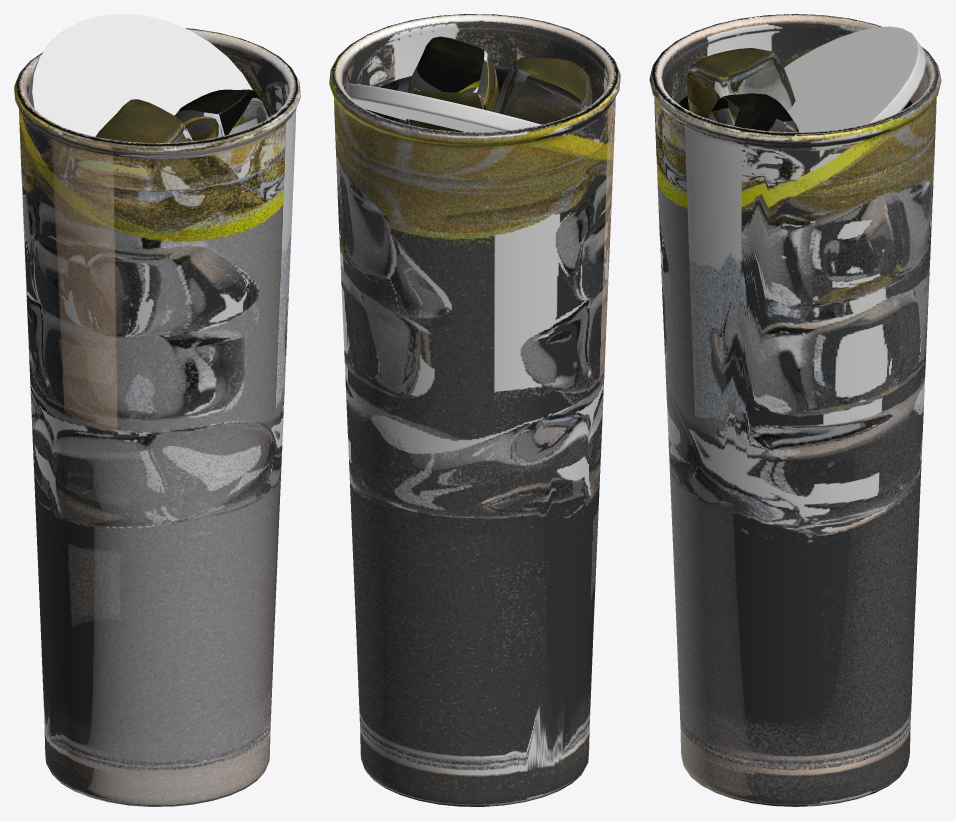
Rendered from water.fbx.
3 views of the same model, side by side, from view 1: azimuth 30°, elevation 25°; view 2: azimuth 150°, elevation 25°; view 3: azimuth 270°, elevation 25° (orthographic).
Parts seen in each view (by area): view 1: Circle, Cylinder.001, Cube.001, Cube; view 2: Circle, Cube, Cube.001, Cylinder.001, Circle.001; view 3: Circle, Cylinder.001, Cube, Cube.001.
Boxes of the visible parts, x1,y1,x2,y2 form: Circle: (14,28,300,806); Cylinder.001: (28,14,252,136); Cube.001: (174,89,269,140); Cube: (95,99,192,143); Circle: (329,14,620,806); Cube: (494,57,592,124); Cube.001: (406,36,498,131); Cylinder.001: (345,83,541,132); Circle.001: (366,69,508,124); Circle: (649,14,941,806); Cylinder.001: (784,26,926,132); Cube: (686,48,795,118); Cube.001: (707,93,798,132).
Size of the model in its own units: 35.39 by 95.15 by 35.39.
Materials: 4 (3 with a texture image).
